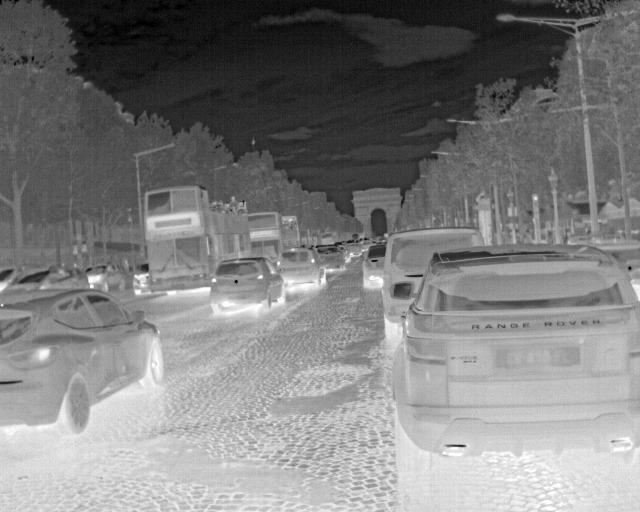car: (389, 244, 639, 458), (0, 287, 164, 436), (377, 227, 485, 339), (144, 185, 252, 295), (209, 257, 286, 315), (247, 211, 300, 268), (2, 265, 90, 290), (276, 247, 326, 289), (82, 263, 124, 293), (361, 245, 387, 289), (316, 244, 346, 272), (0, 265, 27, 291), (133, 263, 149, 295), (338, 244, 351, 263), (347, 243, 362, 257), (321, 232, 335, 245), (360, 240, 372, 251), (347, 239, 358, 243), (372, 240, 377, 246), (381, 241, 387, 245), (335, 241, 343, 244), (377, 241, 381, 245), (343, 240, 347, 244)
light: (532, 194, 538, 212)
sign: (508, 207, 518, 216)
